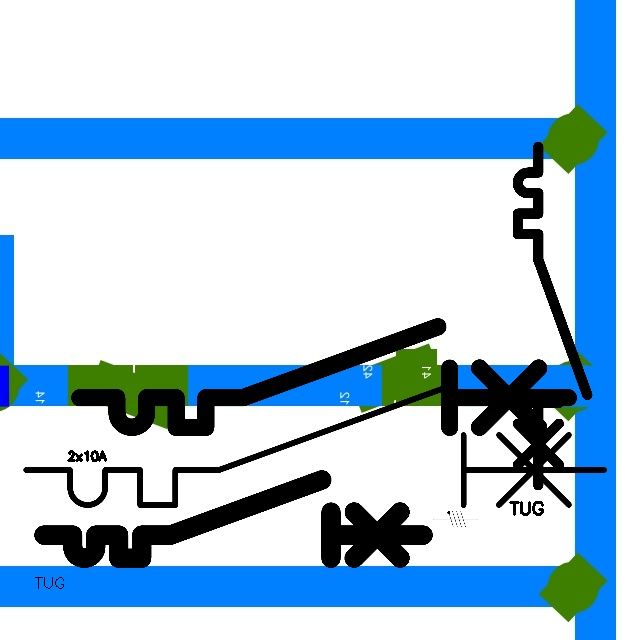interruptor_termomagnetico: (11, 371, 619, 520), (67, 314, 580, 440), (34, 470, 433, 568), (509, 138, 596, 494)
